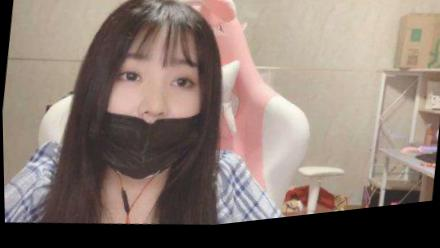WRONG: (92, 37, 209, 196)
